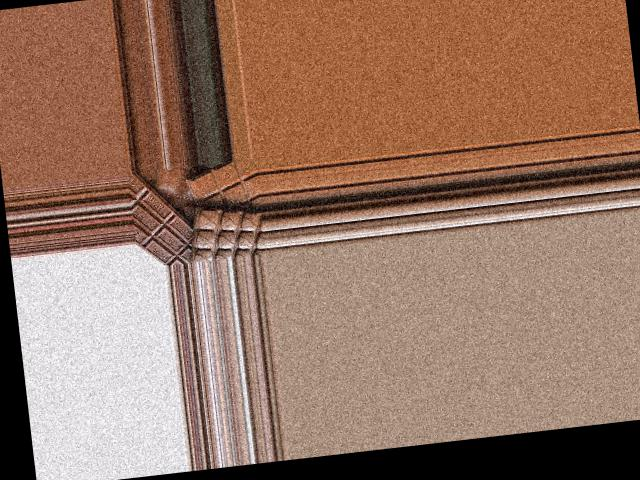chocolate: (186, 163, 263, 228)
